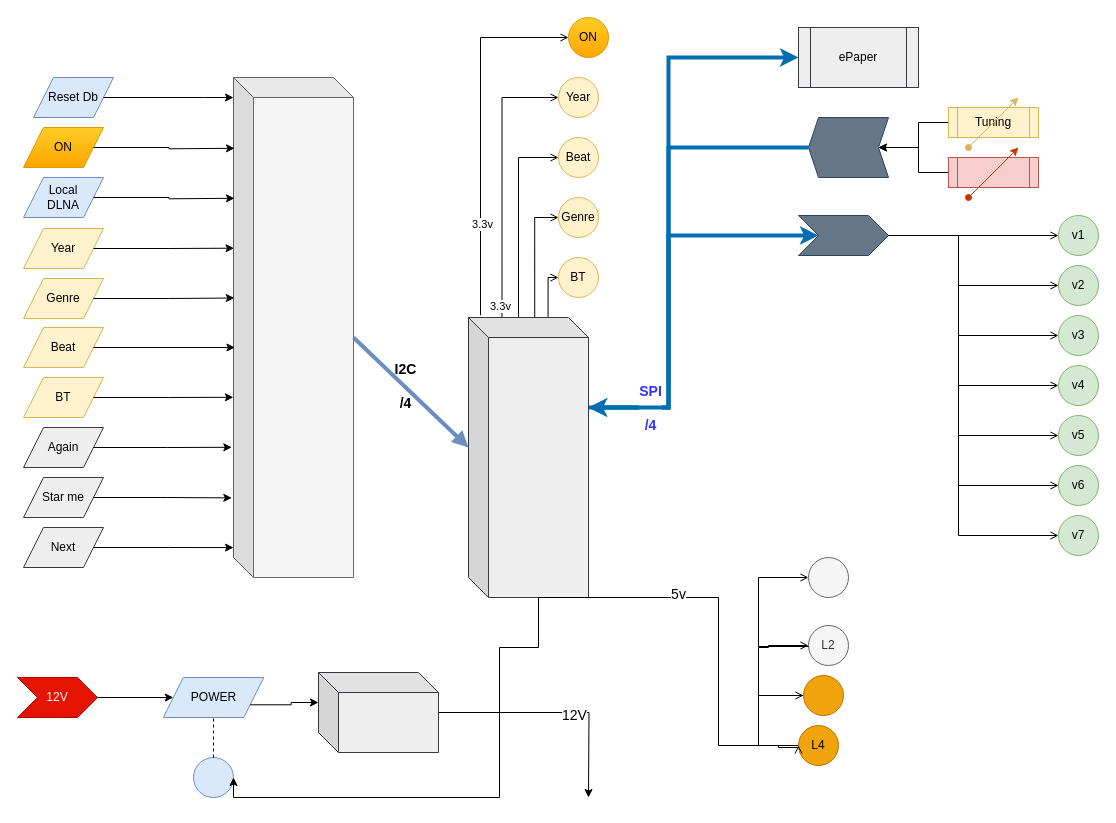
Image size: 1116x823. Some labels were removed from this diagram. The shapes that lost their labels are listed below. From the top down, each one's centre as x and y in pixels, then its label:
At [848,147]: "MCP3008".
At [993,172]: "Volume".
At [843,235]: "74HC595".
At [293,327]: "I2C Expander 16 inputs".
At [528,457]: "CNX".
At [828,577]: "L1".
At [378,712]: "LM7812".
At [823,695]: "L3".
At [213,777]: "POW".
